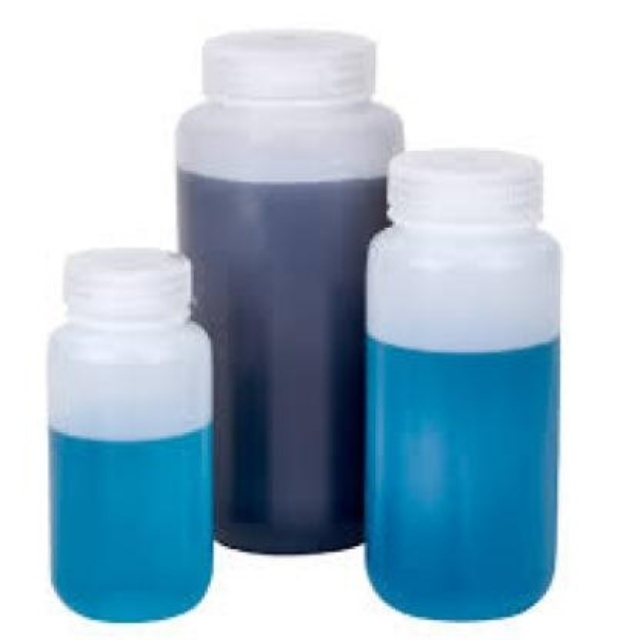trash: (177, 31, 402, 551), (366, 149, 558, 618), (48, 249, 211, 620)
